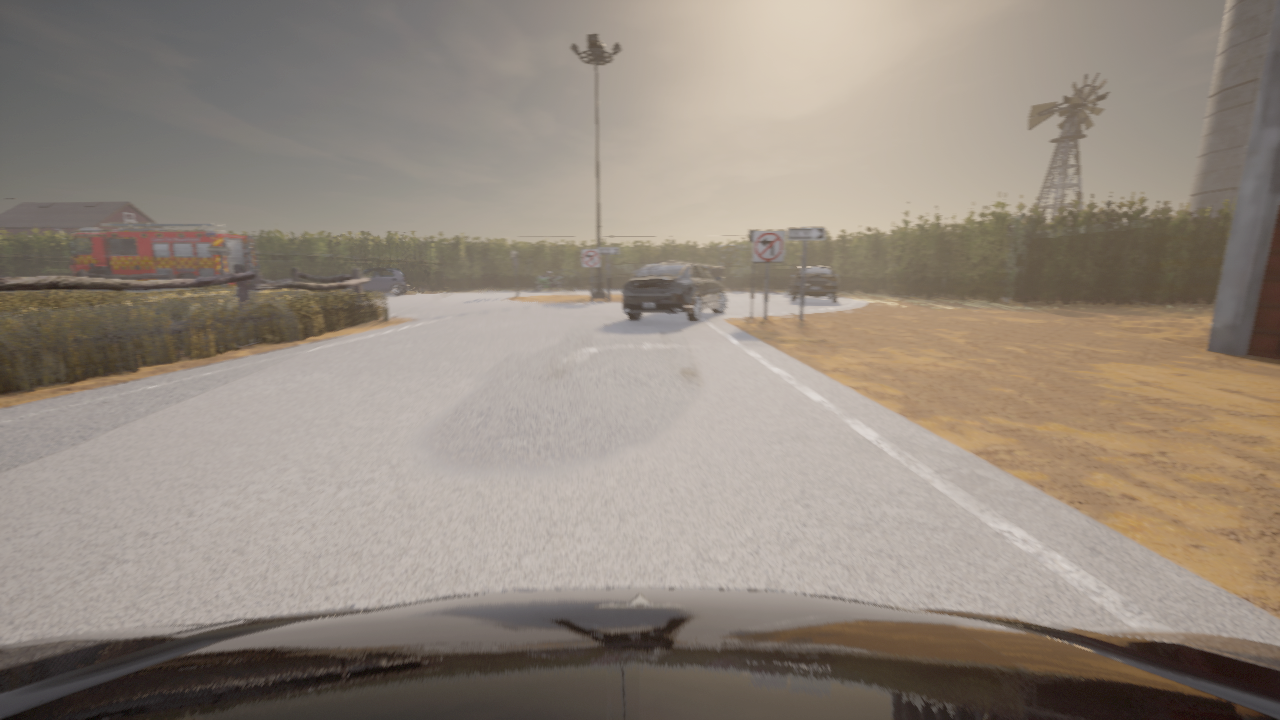cyclist: (0, 588, 1279, 719), (69, 223, 258, 286), (622, 262, 727, 322), (634, 260, 724, 281), (790, 266, 838, 302), (342, 268, 408, 294), (535, 275, 562, 290), (785, 277, 792, 295)
